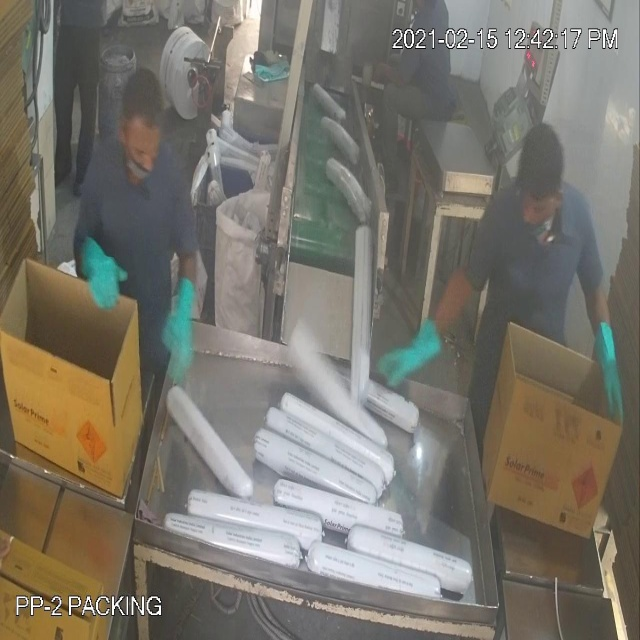Guantes: (149, 265, 205, 400), (69, 215, 136, 326), (583, 313, 632, 439), (378, 320, 456, 391)
